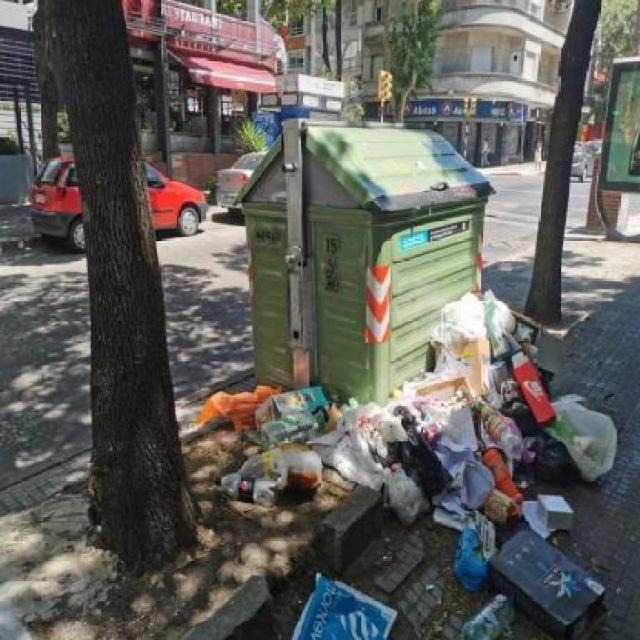garbage: (194, 383, 622, 640), (400, 269, 553, 379)
